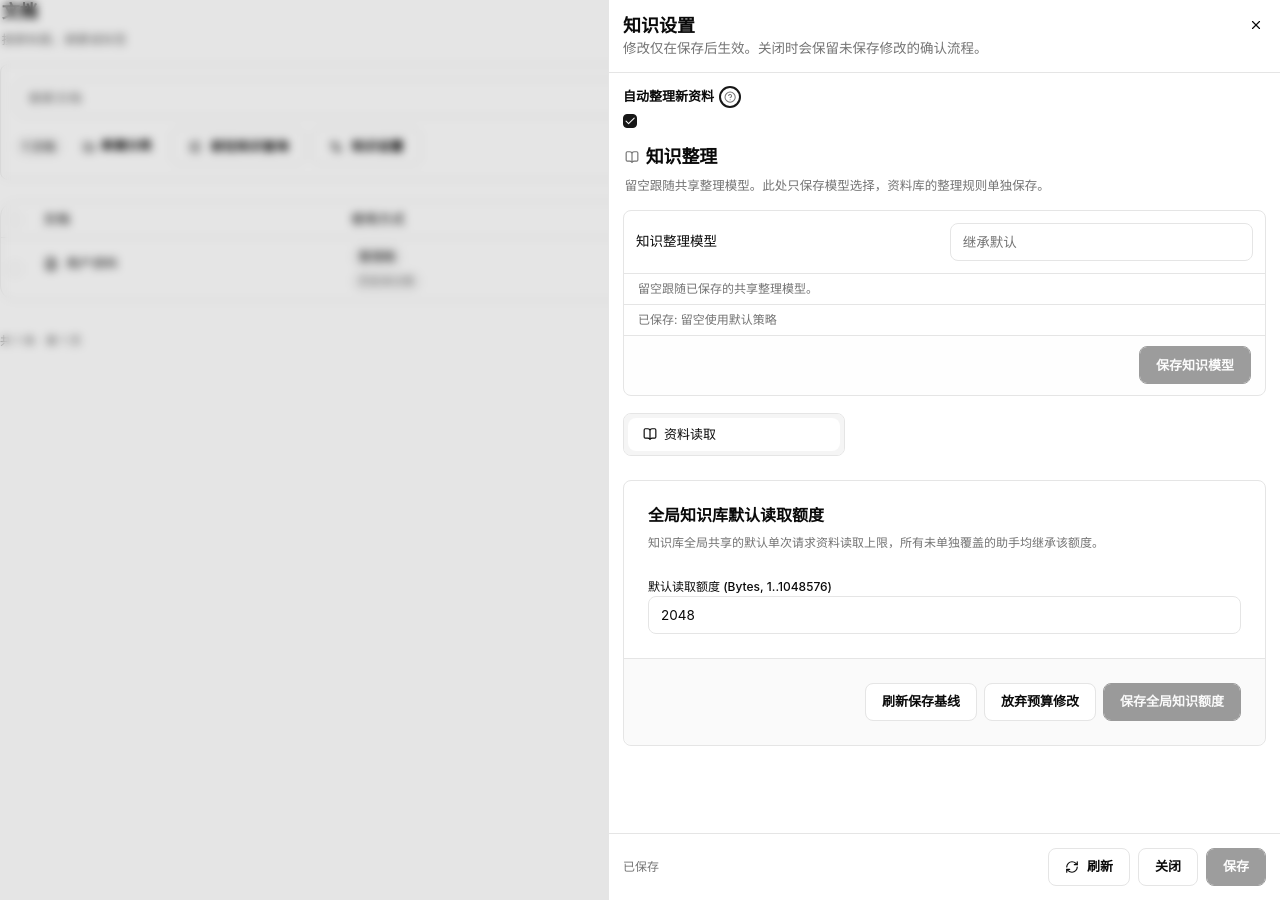
Test: knowledge editing and authorization › surfaces conflict alert inside active sheet and preserves settings draft on save failure
Click the checkbox: x=630, y=121 623,114 -> 637,128
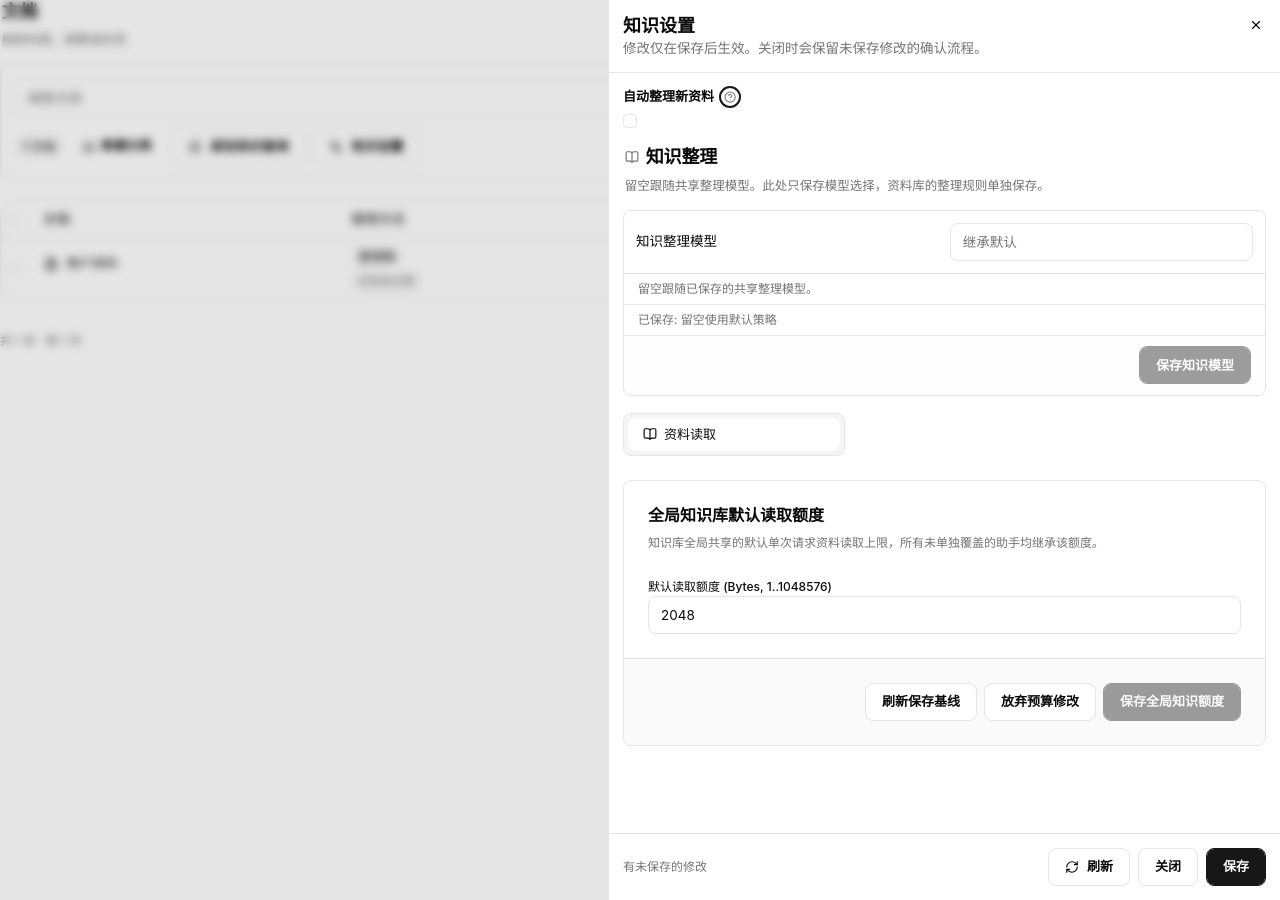
Click the button "保存": x=1236, y=867 1206,848 -> 1266,886
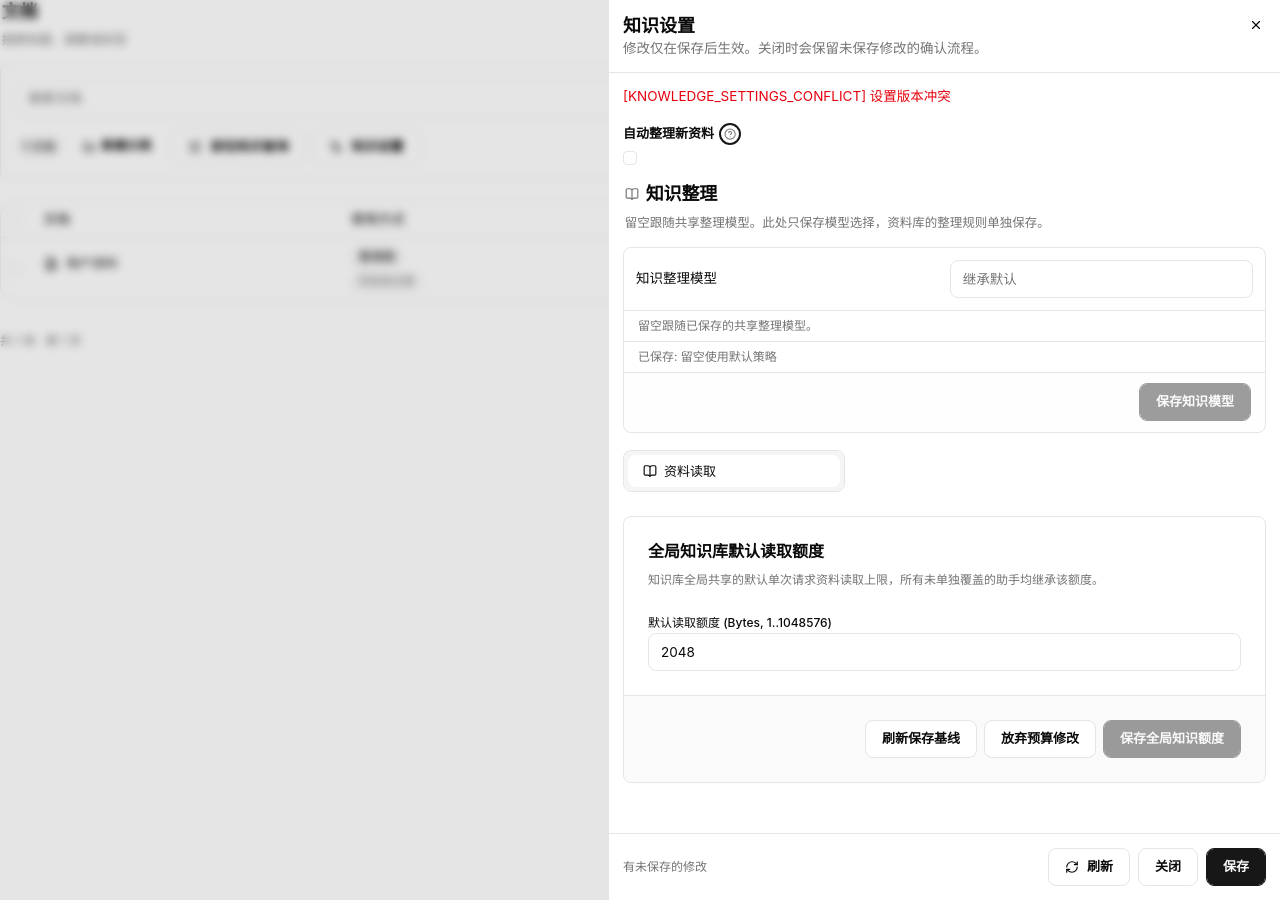
Expected: the number of messages is 1, 623,88 -> 951,104
Expected: the message "[KNOWLEDGE_SETTINGS_CONFLICT] 设置版本冲突" is shown, 623,88 -> 951,104
